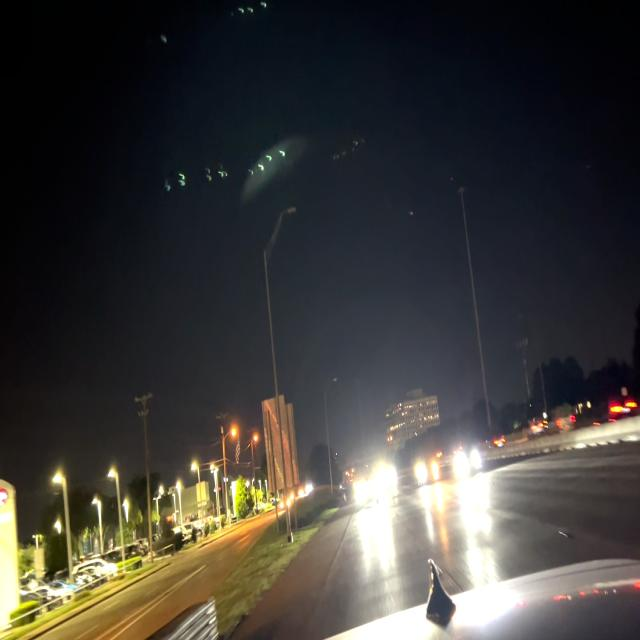back-of-sign: (263, 395, 300, 498)
